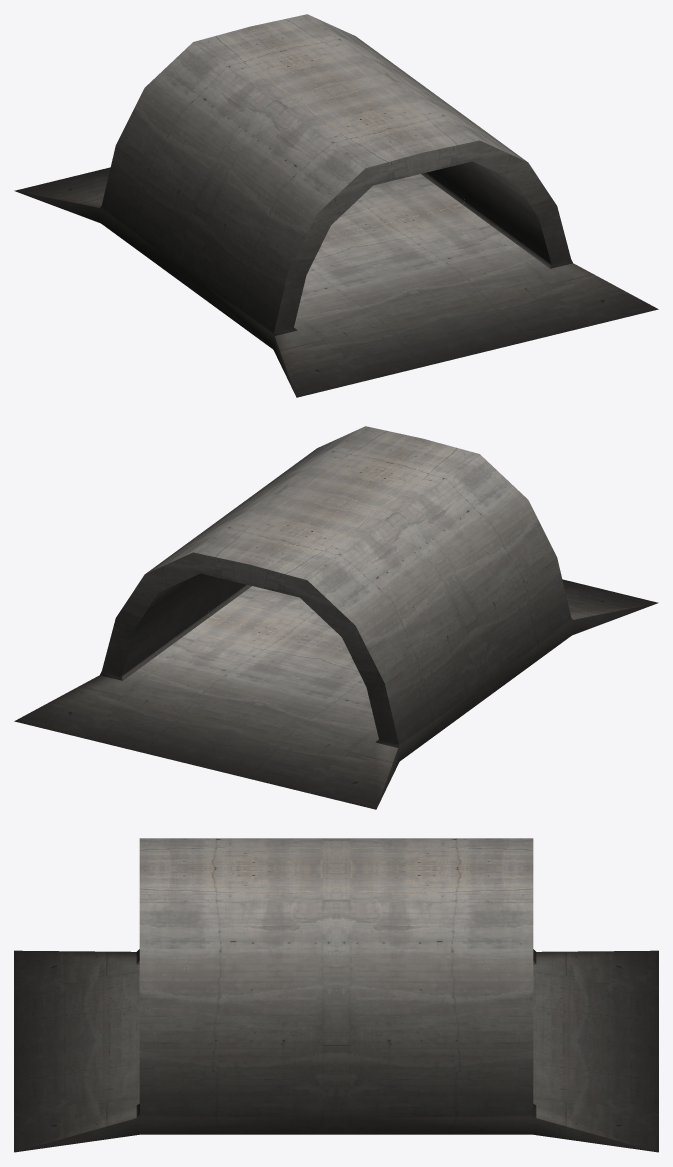
File: building.fbx
3 renders of one model, top to bottom at view 1: azimuth 30°, elevation 25°; view 2: azimuth 150°, elevation 25°; view 3: azimuth 270°, elevation 25°, orthographic. The views are drawn at different scales.
Visible parts, largest first — view 1: structure; view 2: structure; view 3: structure.
Part boxes in pixels (box(x1,y1,x2,y2)): structure: box(14, 14, 658, 397); structure: box(14, 426, 658, 809); structure: box(14, 838, 658, 1152).
Bounding box in the file's own units: 15.51 × 6.57 × 20.96.
1 material, 1 textured.
